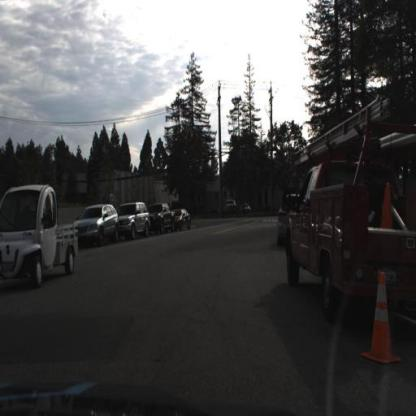car: (285, 94, 416, 323), (2, 184, 80, 289), (73, 201, 122, 248), (77, 202, 118, 248), (116, 197, 152, 243), (118, 201, 151, 242), (150, 200, 177, 239), (149, 201, 174, 235), (172, 210, 193, 235), (239, 197, 256, 217), (224, 198, 240, 218)
